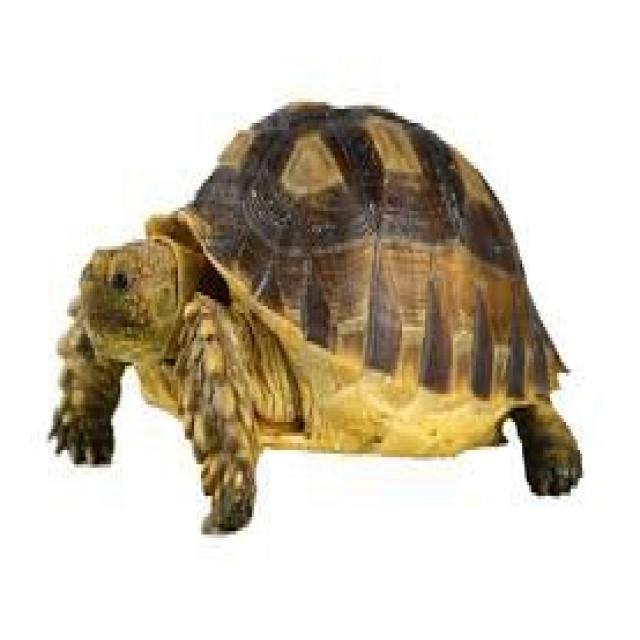turtle: (45, 102, 582, 536)
